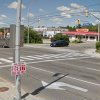crosswalk: (0, 53, 77, 64)
